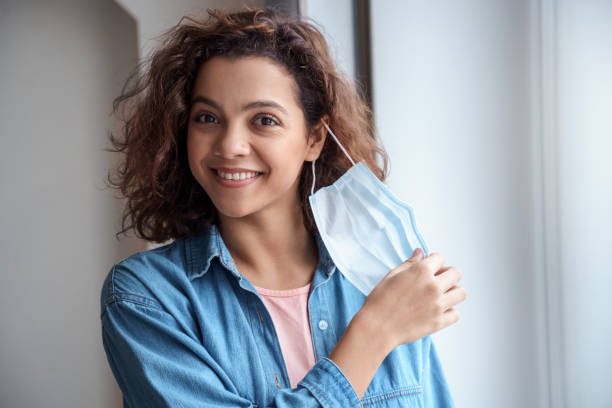without mask: (180, 53, 312, 216)
